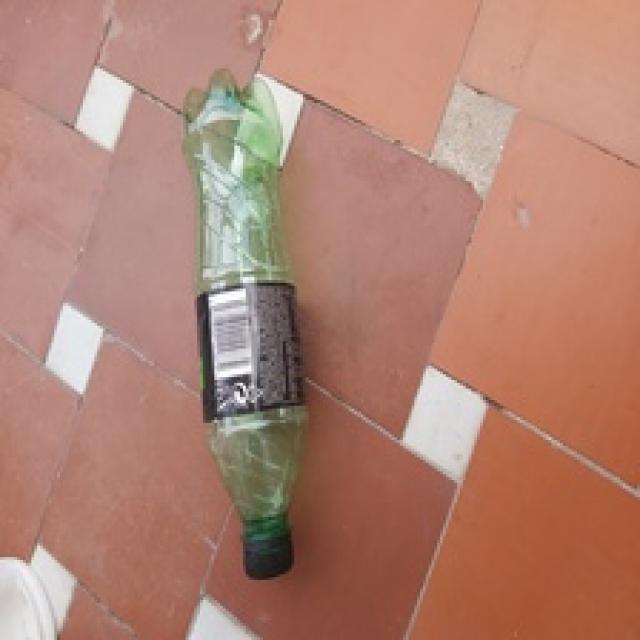Plastic: (179, 68, 311, 580)
